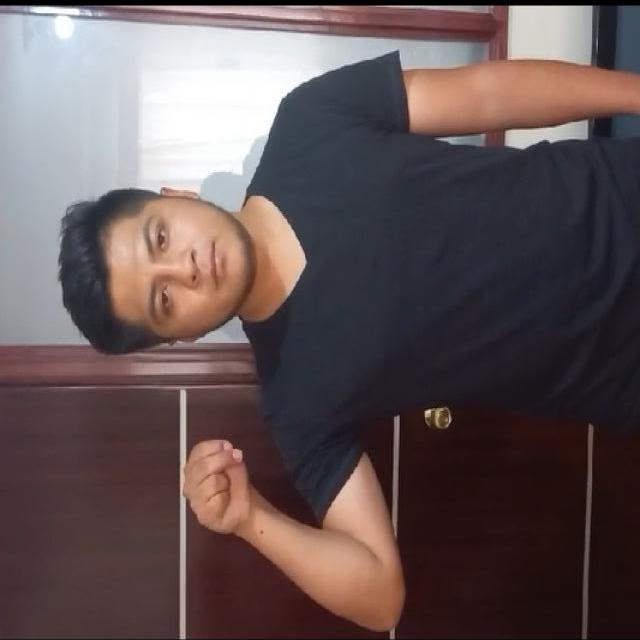N: (161, 564, 165, 573)
